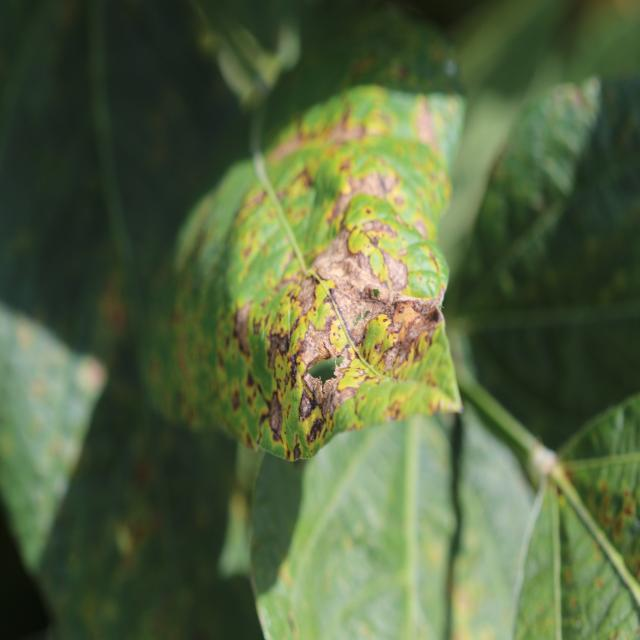Bacterial_Blight: (307, 267, 443, 387), (326, 232, 403, 296), (325, 167, 406, 220), (264, 116, 336, 174), (296, 303, 348, 375), (298, 117, 375, 156), (313, 237, 357, 282), (265, 314, 292, 371), (290, 276, 324, 319), (234, 298, 257, 355), (413, 98, 437, 148), (332, 378, 363, 409), (267, 391, 284, 437), (302, 371, 324, 401), (298, 390, 314, 420), (378, 172, 395, 194), (369, 235, 379, 247)
Soybean: (136, 83, 466, 466)
